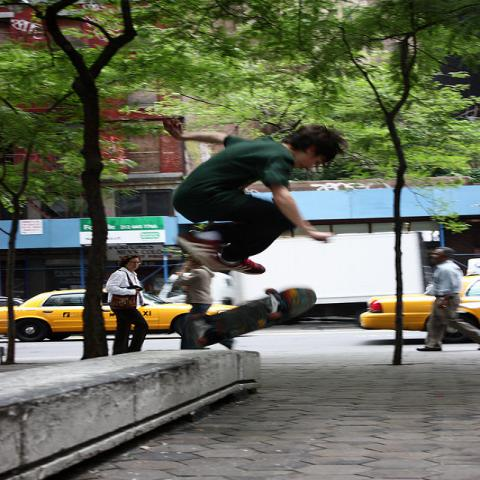car: (0, 289, 237, 343), (358, 258, 479, 344)
truck: (157, 231, 429, 317)
